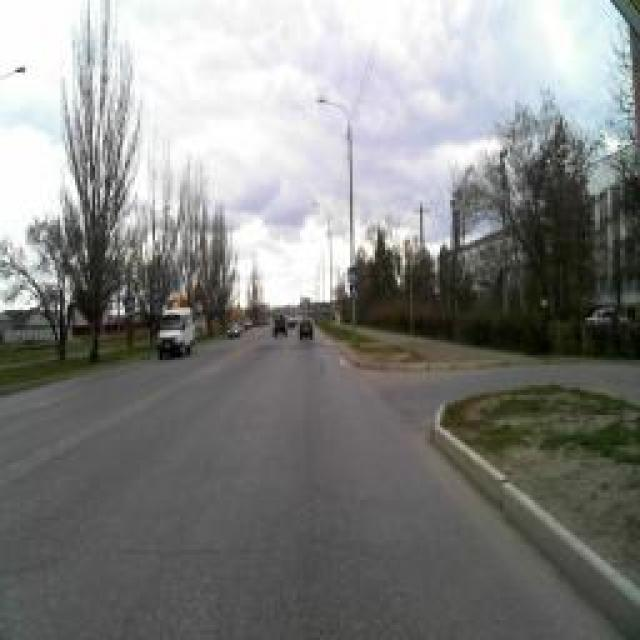sign: (125, 296, 133, 309), (152, 286, 160, 299), (349, 285, 356, 297)
